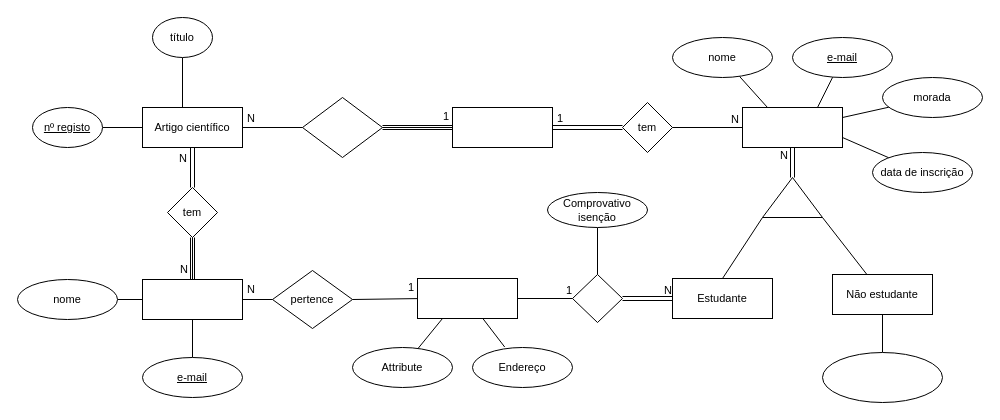
The diagram is 1000 pixels wide and 420 high, and some of its shapes have lost their labels. The box of each missing label's shape, as (x1, y1, x2, y2) in pixels:
aprensetado: (302, 96, 382, 158)
Autor: (142, 278, 242, 320)
Conferência: (452, 106, 552, 148)
estuda: (572, 274, 622, 322)
Instituição: (416, 278, 518, 318)
Participante: (742, 106, 842, 148)
referência transação bancária: (822, 352, 942, 402)
tem de ser: (762, 176, 822, 218)
